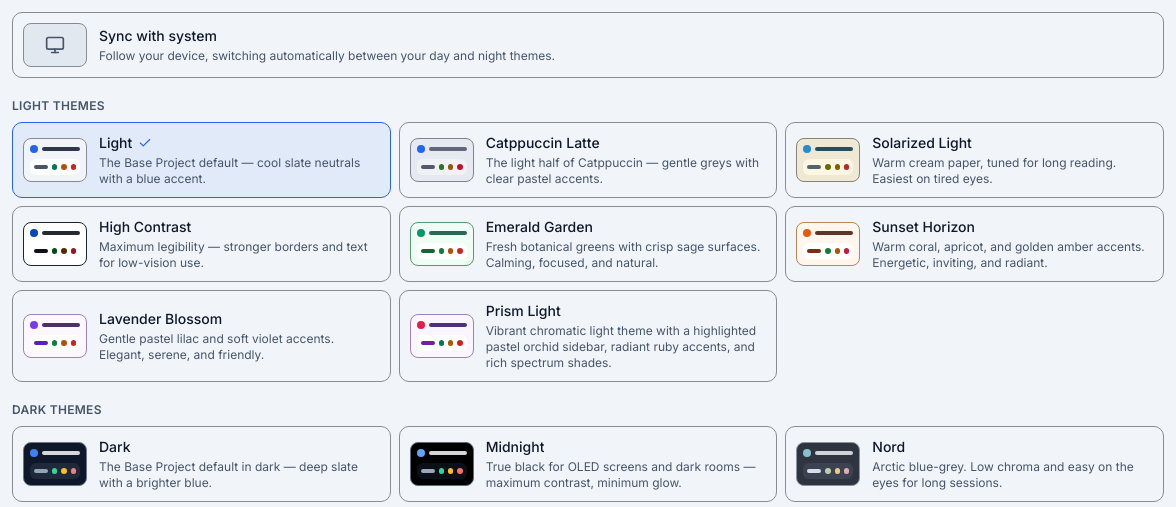
Test: <ThemePicker> › hides the day/night pair until the user follows the system
Expected: the field labelled "Day theme" is not shown
Click the radio button labelled "Sync with system" at (55, 45), box top-left (12, 12), bottom-right (1164, 78)
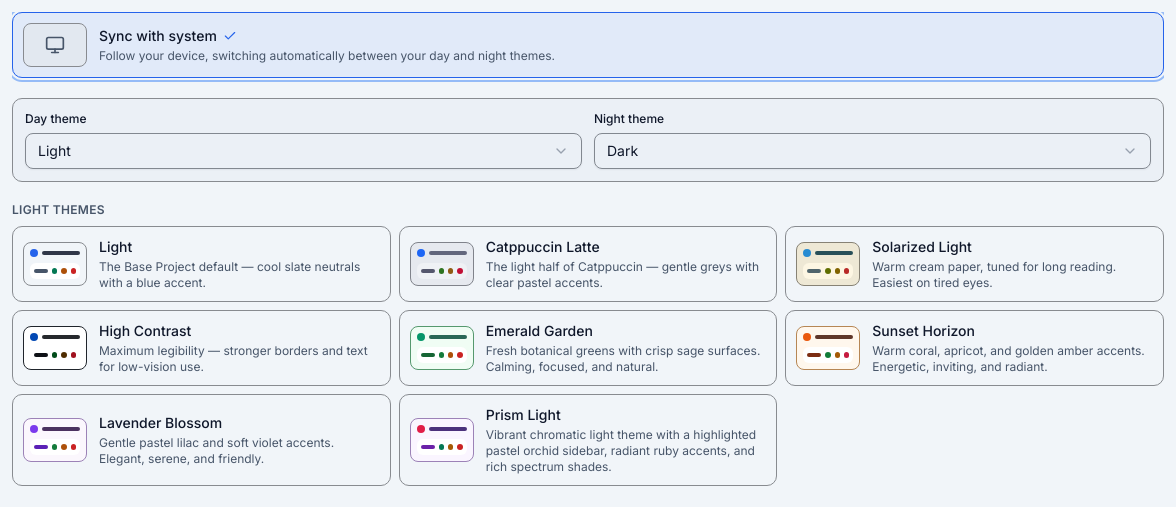
Expected: the dropdown named "Day theme" is shown, top-left (25, 133), bottom-right (582, 169)
Expected: the dropdown named "Night theme" is shown, top-left (594, 133), bottom-right (1151, 169)
